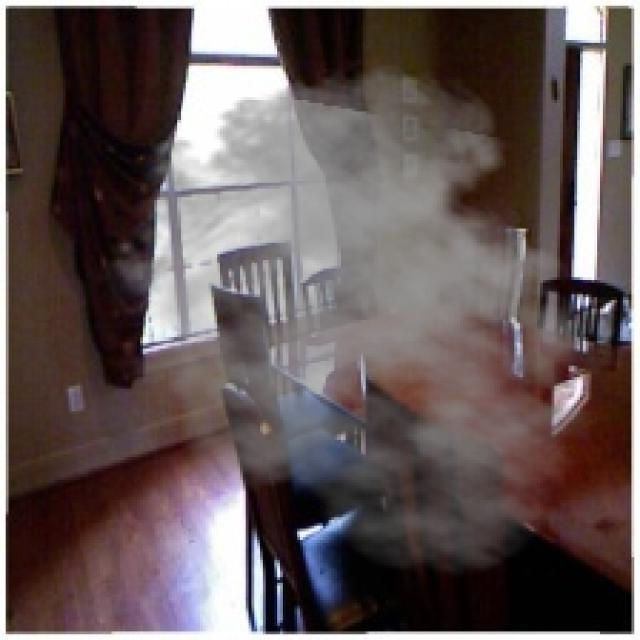Smoke: (88, 57, 638, 580)
